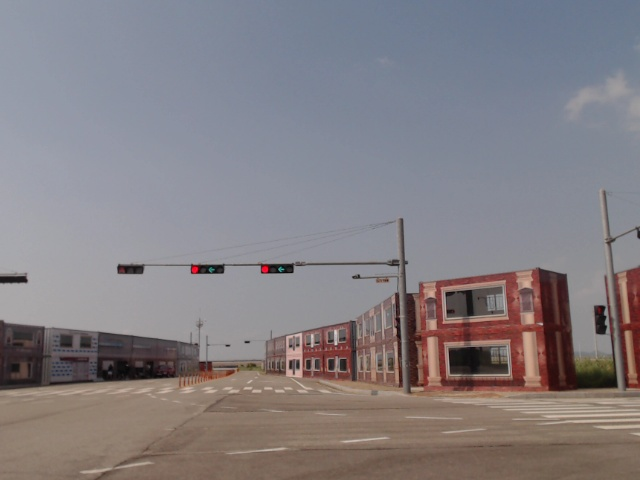left_green_4: (191, 266, 223, 274), (261, 265, 293, 272)
